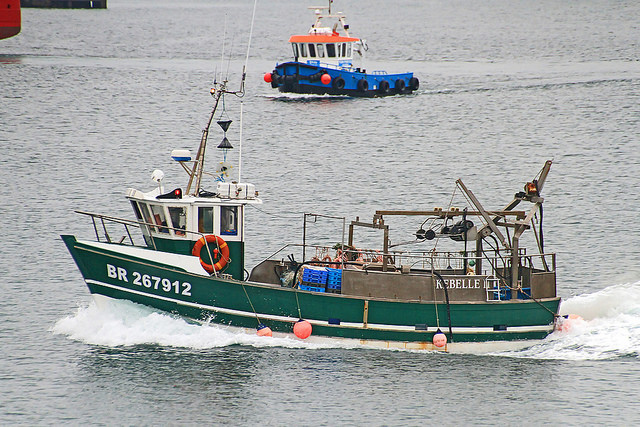fishing_boat: (60, 69, 573, 345), (266, 9, 432, 98)
